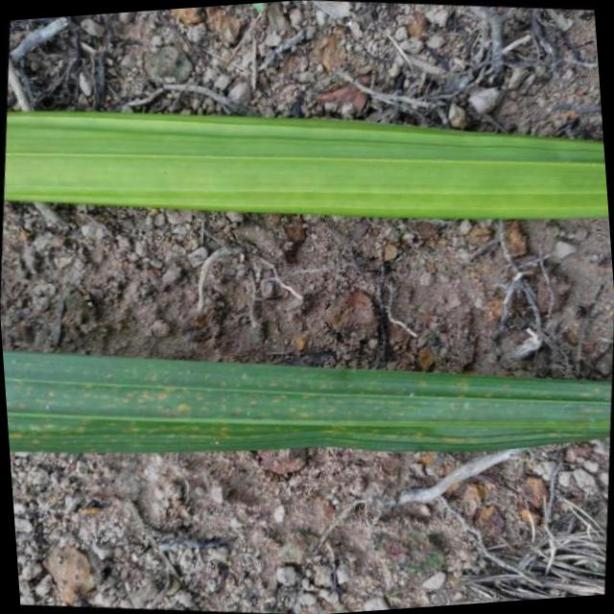nitrogen: (5, 98, 614, 219), (0, 347, 614, 451)
